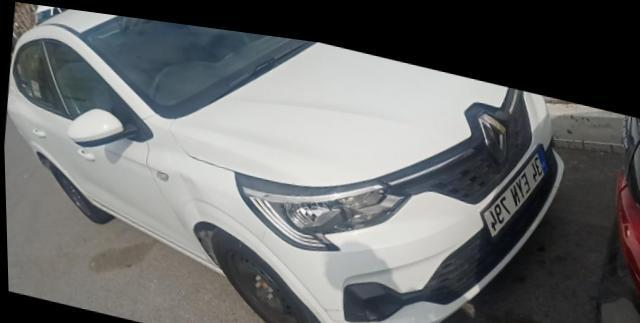dent: (171, 165, 204, 211)
